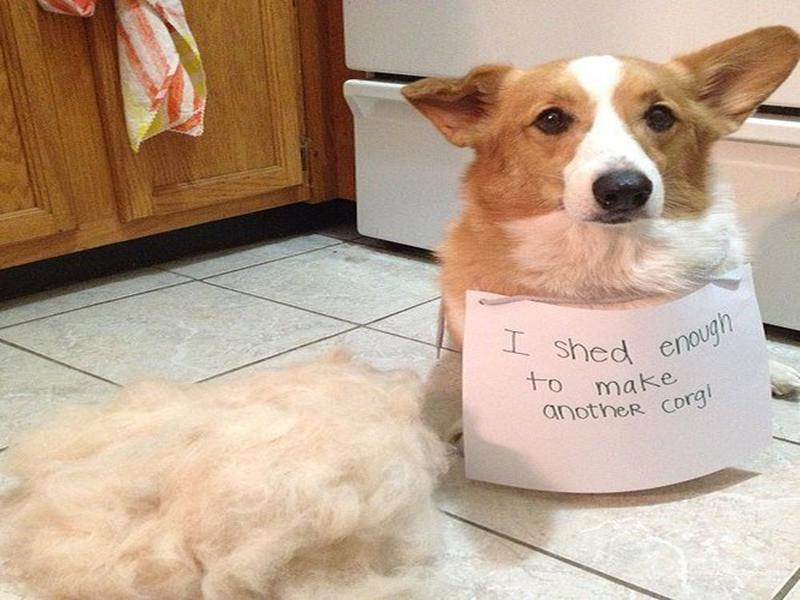corgi: (403, 27, 800, 223)
